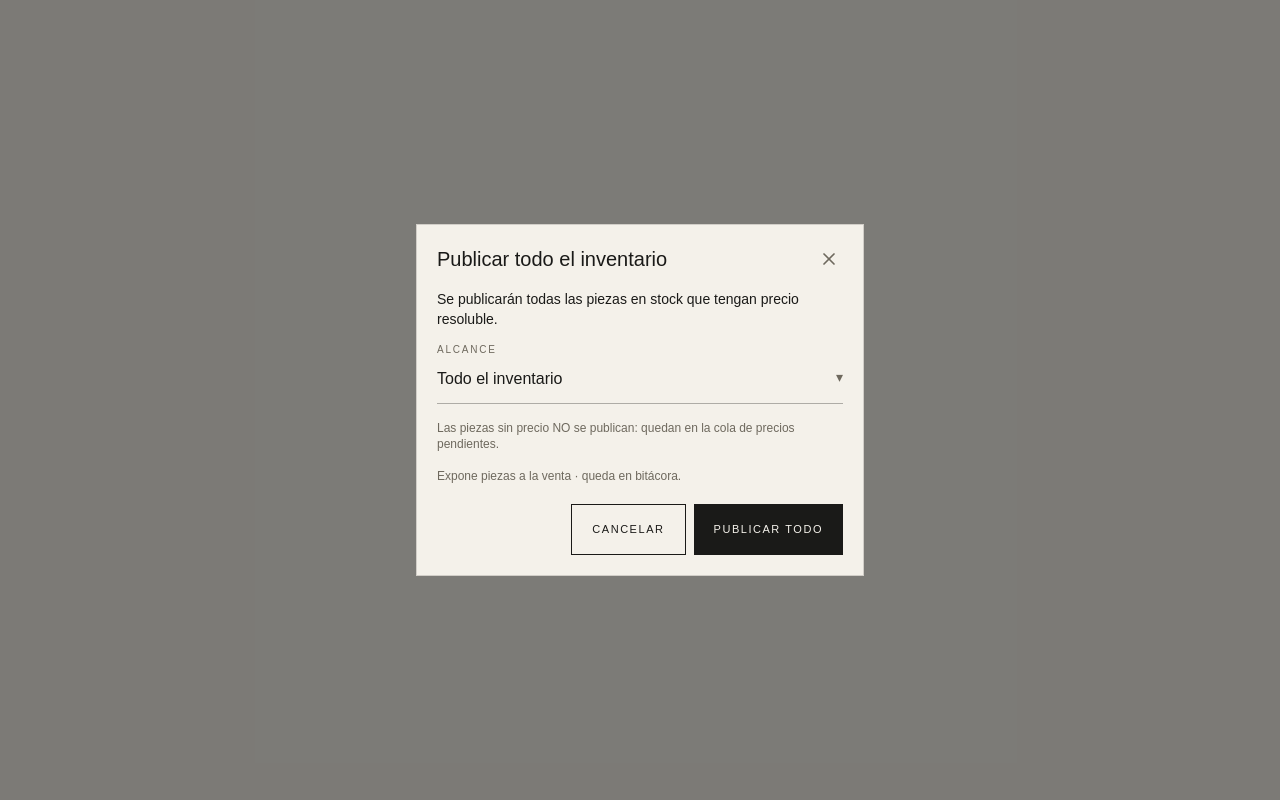
it: PublishAllDialog (P-19, §16.5c) · confirmación con alcance + resultado honesto › resultado HONESTO de 4 renglones; «Sin precio» > 0 enlaza a la cola M2
Click the button "Publicar todo".
click(768, 530)  # box [694,504,843,555]
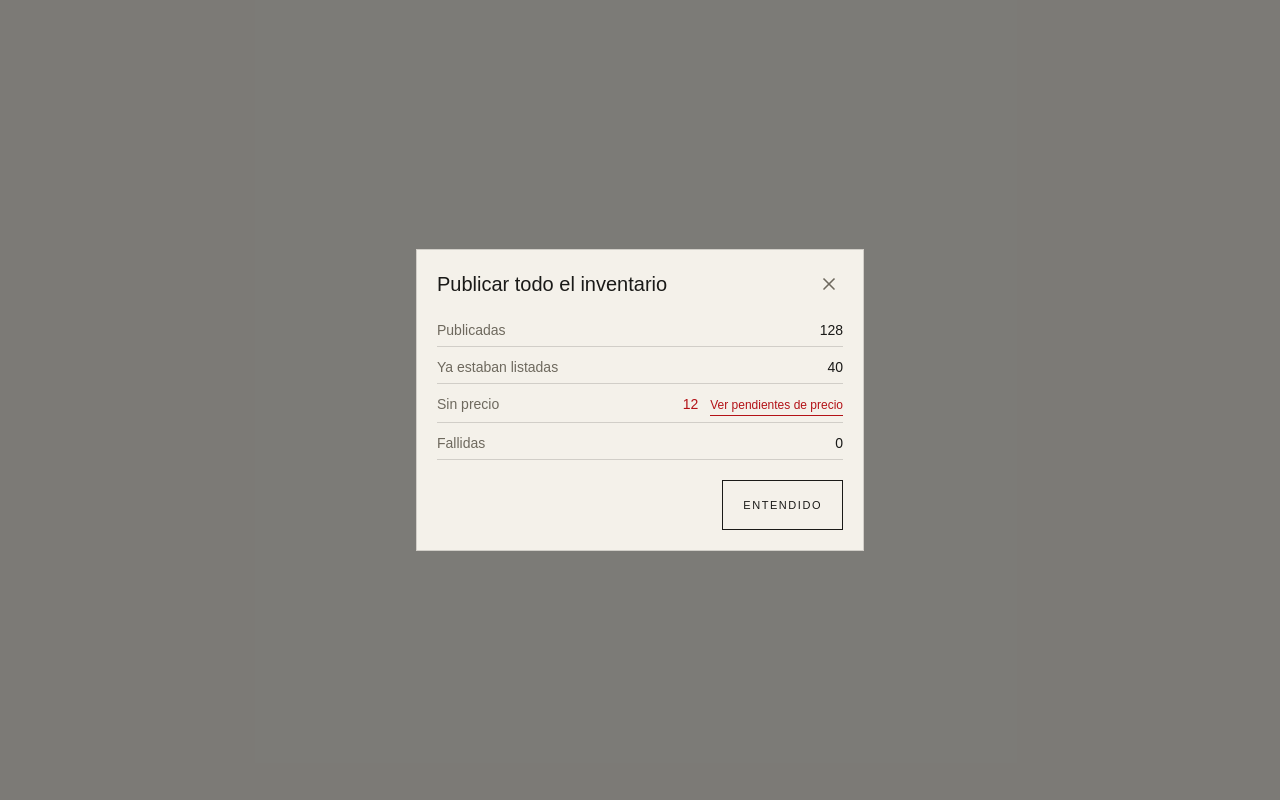
Result: the text "Publicadas" is shown at [437,320,506,340]
Result: the text "128" is shown at [820,320,843,340]
Result: the text "Ya estaban listadas" is shown at [437,357,558,377]
